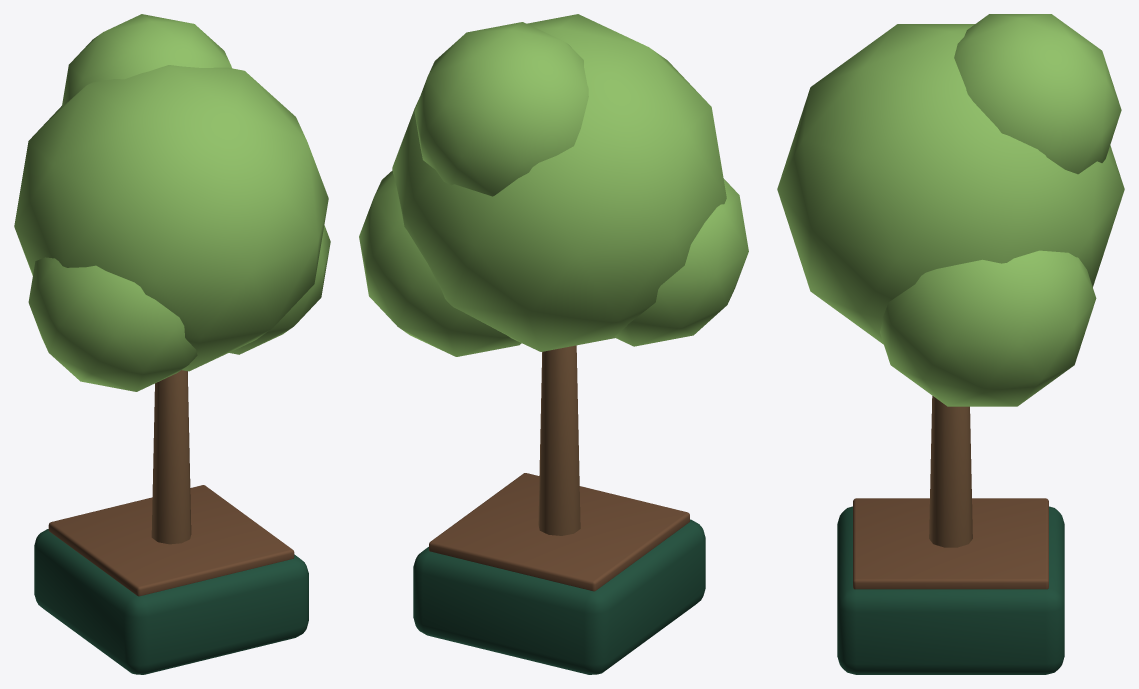
Rendered from prop_tree1.glb.
3 views of the same model, side by side, from view 1: azimuth 30°, elevation 25°; view 2: azimuth 150°, elevation 25°; view 3: azimuth 270°, elevation 25° (orthographic). The views are drawn at different scales.
Visible parts, largest first — view 1: tree1; view 2: tree1; view 3: tree1.
Part boxes in pixels (bbox=[...]): tree1: bbox=[14, 14, 330, 674]; tree1: bbox=[359, 14, 748, 674]; tree1: bbox=[777, 14, 1124, 674].
Size of the model in its own units: 1.2 by 2.17 by 1.1.
